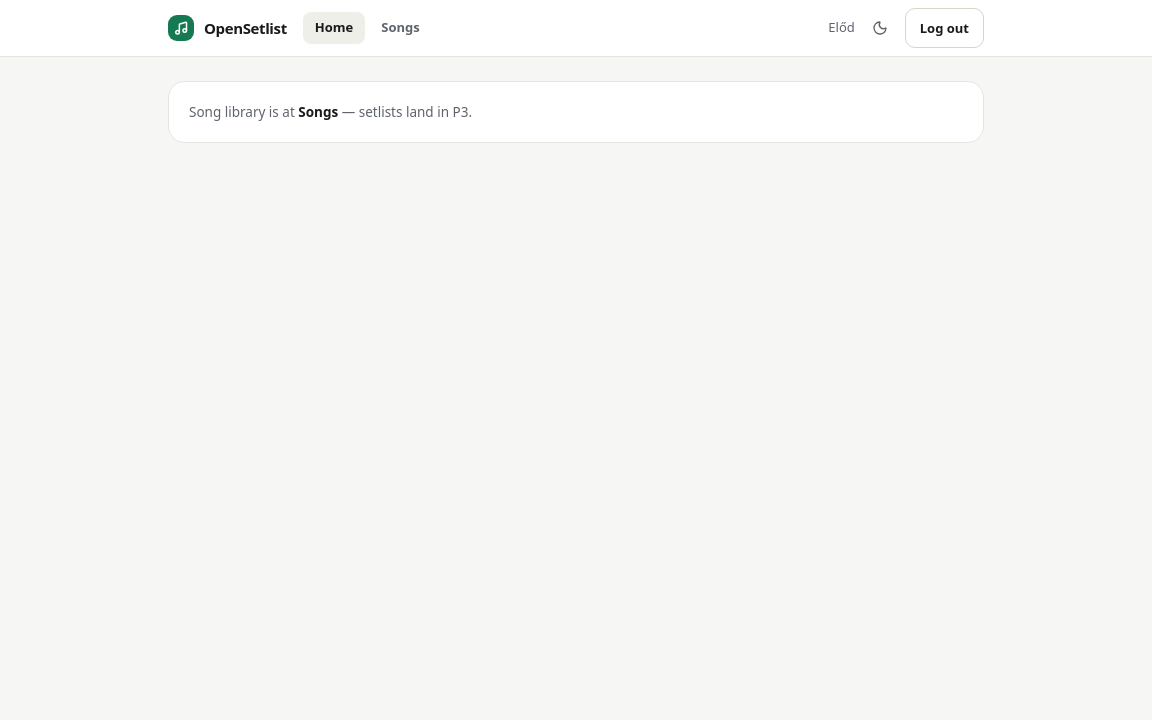
Test: logout flow › logs out and returns to /login
Click the button "Log out": click(944, 28) [905, 8, 984, 48]
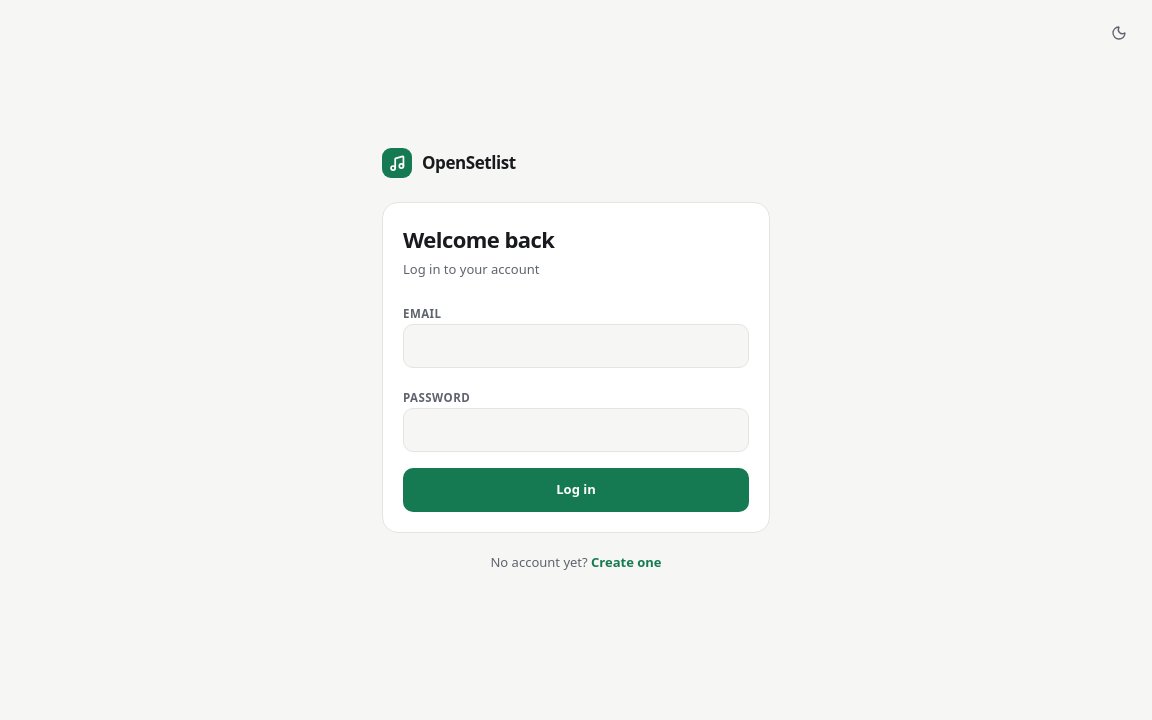
Expected: the heading "Welcome back" is shown, [403, 224, 554, 254]
